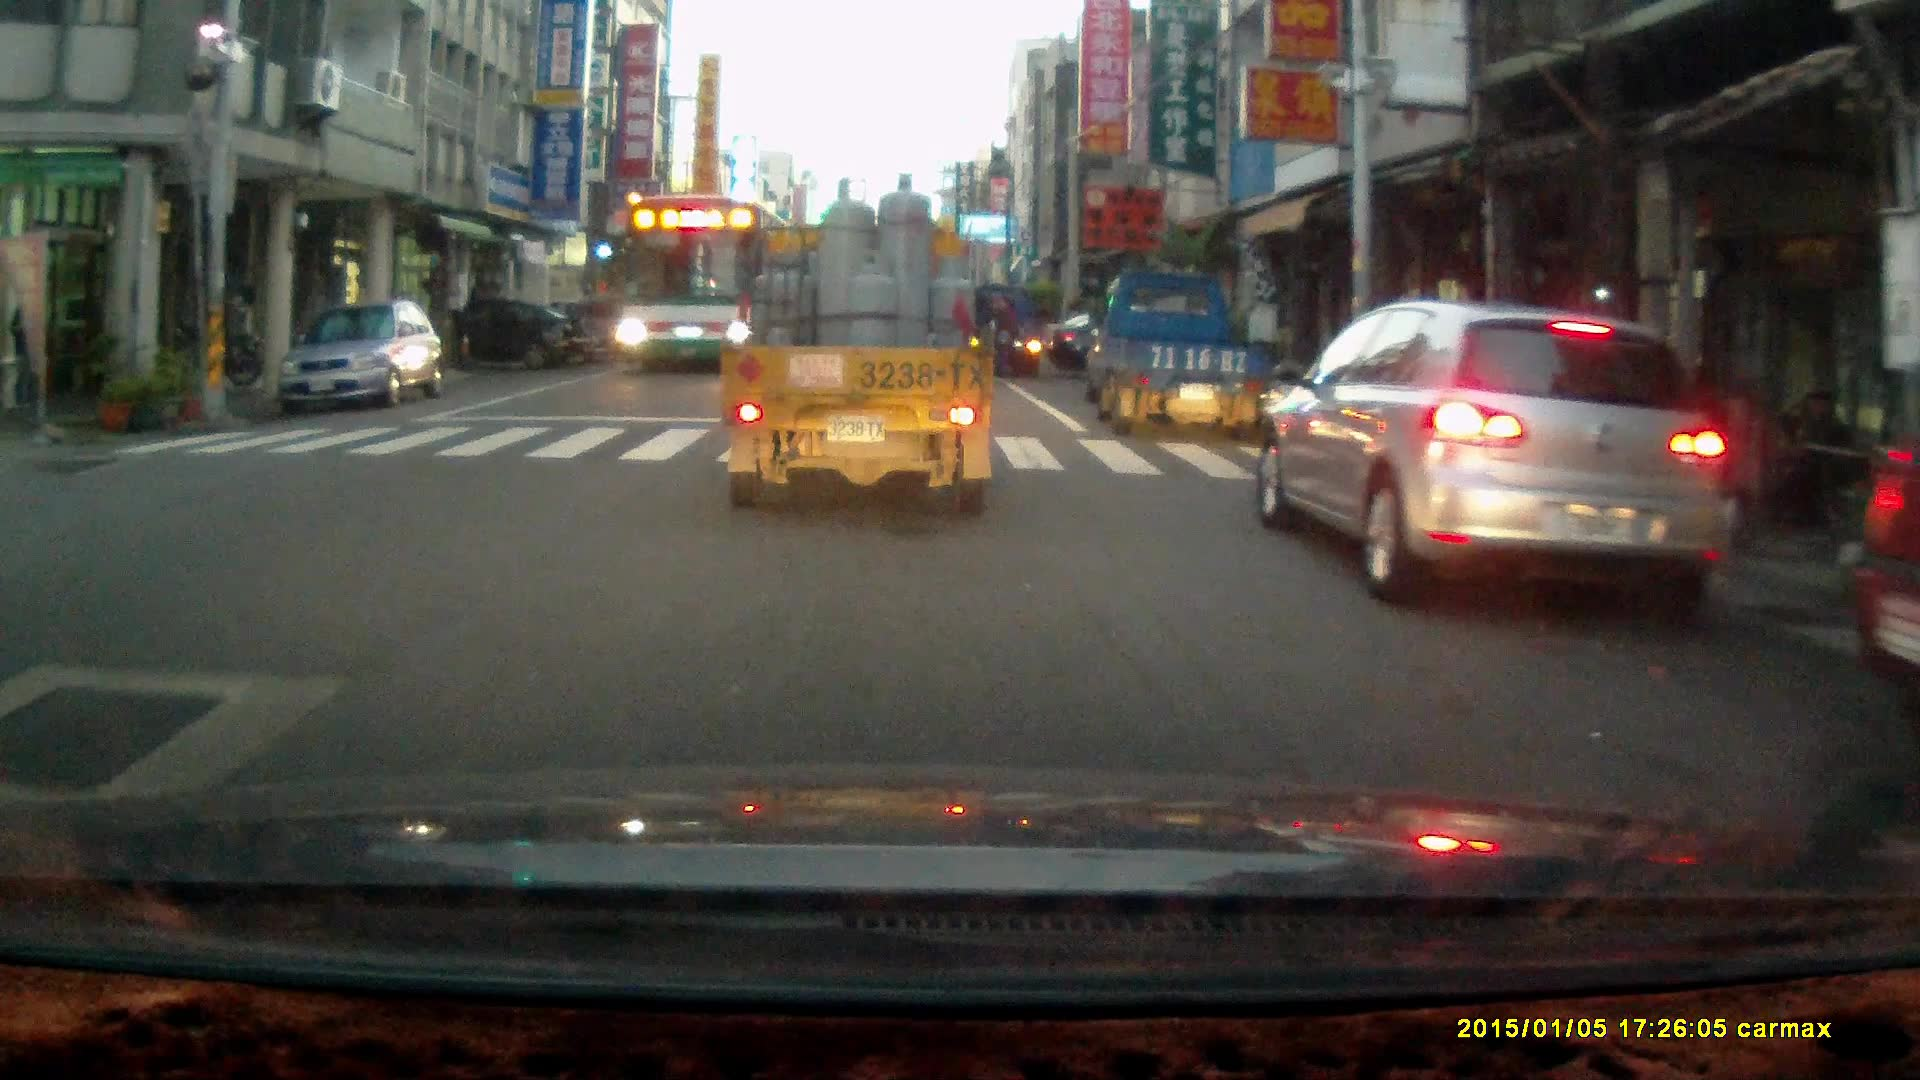vehicle: (1258, 298, 1729, 618), (727, 171, 996, 522), (607, 196, 783, 380), (1083, 266, 1265, 436), (272, 301, 446, 419), (392, 297, 593, 373), (564, 294, 662, 365)
